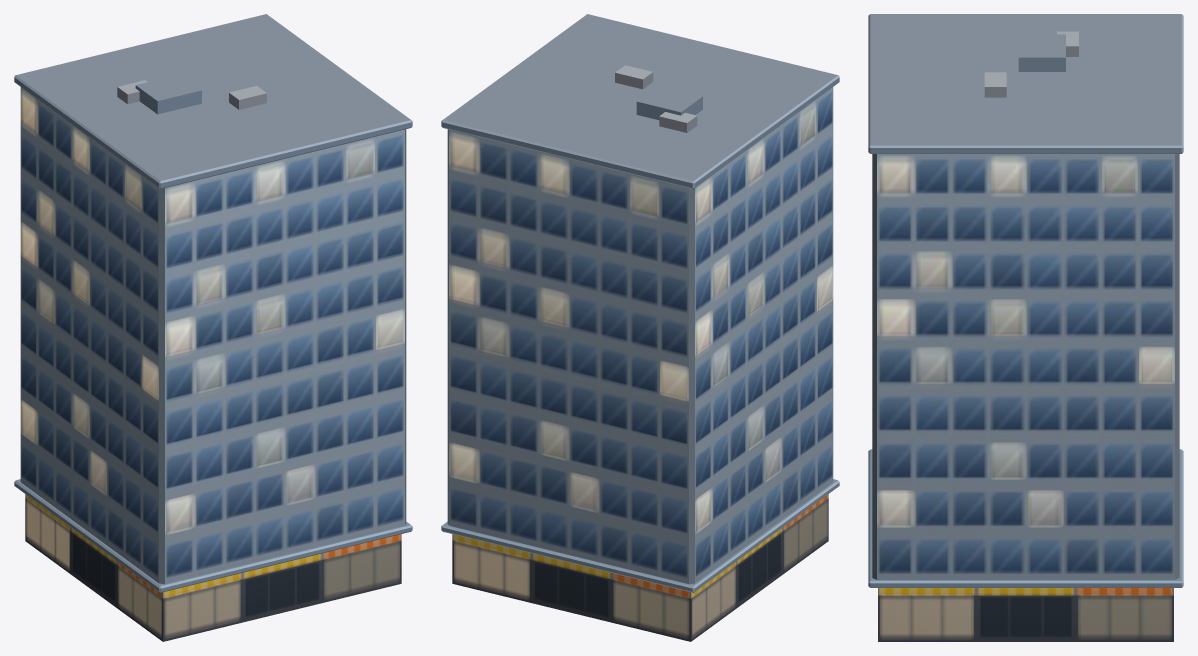
Rendered from building-20x20x36.glb.
3 renders of one model, left to right at view 1: azimuth 30°, elevation 25°; view 2: azimuth 150°, elevation 25°; view 3: azimuth 270°, elevation 25°, orthographic. The views are drawn at different scales.
Parts seen in each view (by area): view 1: building-20x20x36; view 2: building-20x20x36; view 3: building-20x20x36.
Part boxes in pixels (box(x1,y1,x2,y2)): building-20x20x36: box(14, 14, 412, 641); building-20x20x36: box(441, 14, 839, 641); building-20x20x36: box(868, 14, 1183, 641).
Size of the model in its own units: 20 by 36 by 20.
Materials: 1 (1 with a texture image).
